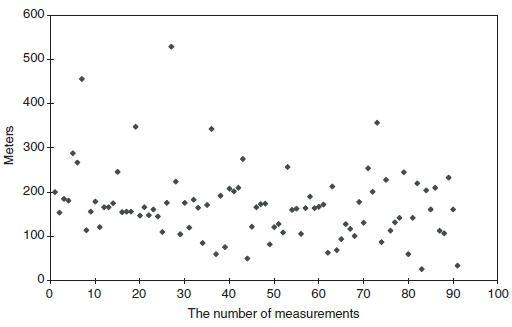axis: (45, 278, 501, 286), (45, 11, 55, 288)
point: (372, 117, 384, 129), (130, 121, 142, 132), (77, 75, 87, 85), (68, 149, 78, 159), (211, 249, 221, 259), (282, 162, 292, 172), (453, 261, 463, 271), (72, 159, 83, 168), (353, 198, 364, 207), (55, 208, 65, 217), (171, 177, 180, 187), (189, 196, 198, 206), (199, 238, 209, 247), (327, 182, 337, 191), (412, 178, 421, 188), (408, 213, 418, 222), (377, 238, 387, 247), (416, 264, 426, 273), (208, 123, 216, 134), (167, 43, 176, 52), (114, 167, 123, 176), (110, 198, 119, 207), (193, 204, 202, 213), (203, 200, 212, 209), (175, 229, 184, 238), (221, 242, 230, 251), (238, 155, 247, 164), (251, 203, 260, 212), (243, 254, 252, 263), (341, 219, 350, 228), (359, 218, 368, 227), (381, 175, 390, 184), (81, 226, 91, 234), (153, 213, 163, 221), (180, 198, 188, 208), (184, 223, 194, 231), (248, 221, 256, 231), (265, 240, 275, 248), (351, 232, 359, 242), (385, 227, 395, 235), (431, 184, 441, 192), (444, 174, 454, 182), (65, 197, 74, 205), (87, 207, 95, 216), (95, 223, 104, 231), (104, 203, 113, 211), (123, 208, 131, 217), (136, 211, 144, 220), (145, 211, 153, 220), (157, 227, 166, 235), (162, 199, 171, 207), (235, 183, 243, 192), (262, 199, 271, 207), (320, 201, 328, 210), (306, 193, 315, 201), (333, 246, 341, 255), (364, 165, 373, 173), (404, 250, 413, 258), (426, 205, 435, 213), (449, 205, 458, 213), (399, 169, 409, 176), (390, 218, 400, 225), (150, 205, 158, 213), (216, 192, 224, 200), (276, 219, 284, 227), (324, 248, 332, 256), (346, 225, 354, 233), (369, 187, 377, 195), (422, 186, 430, 194), (441, 229, 449, 237), (50, 189, 59, 196), (231, 187, 238, 196), (297, 230, 306, 237), (91, 198, 99, 205), (101, 203, 108, 211), (118, 208, 125, 216), (140, 203, 148, 210), (225, 185, 233, 192), (257, 200, 264, 208), (271, 223, 278, 231), (279, 229, 287, 236), (288, 206, 295, 214), (293, 205, 300, 213), (302, 205, 309, 213), (315, 203, 322, 211), (337, 235, 345, 242), (396, 214, 404, 221), (435, 227, 443, 234), (311, 205, 318, 212), (61, 195, 67, 203), (129, 207, 135, 215)
